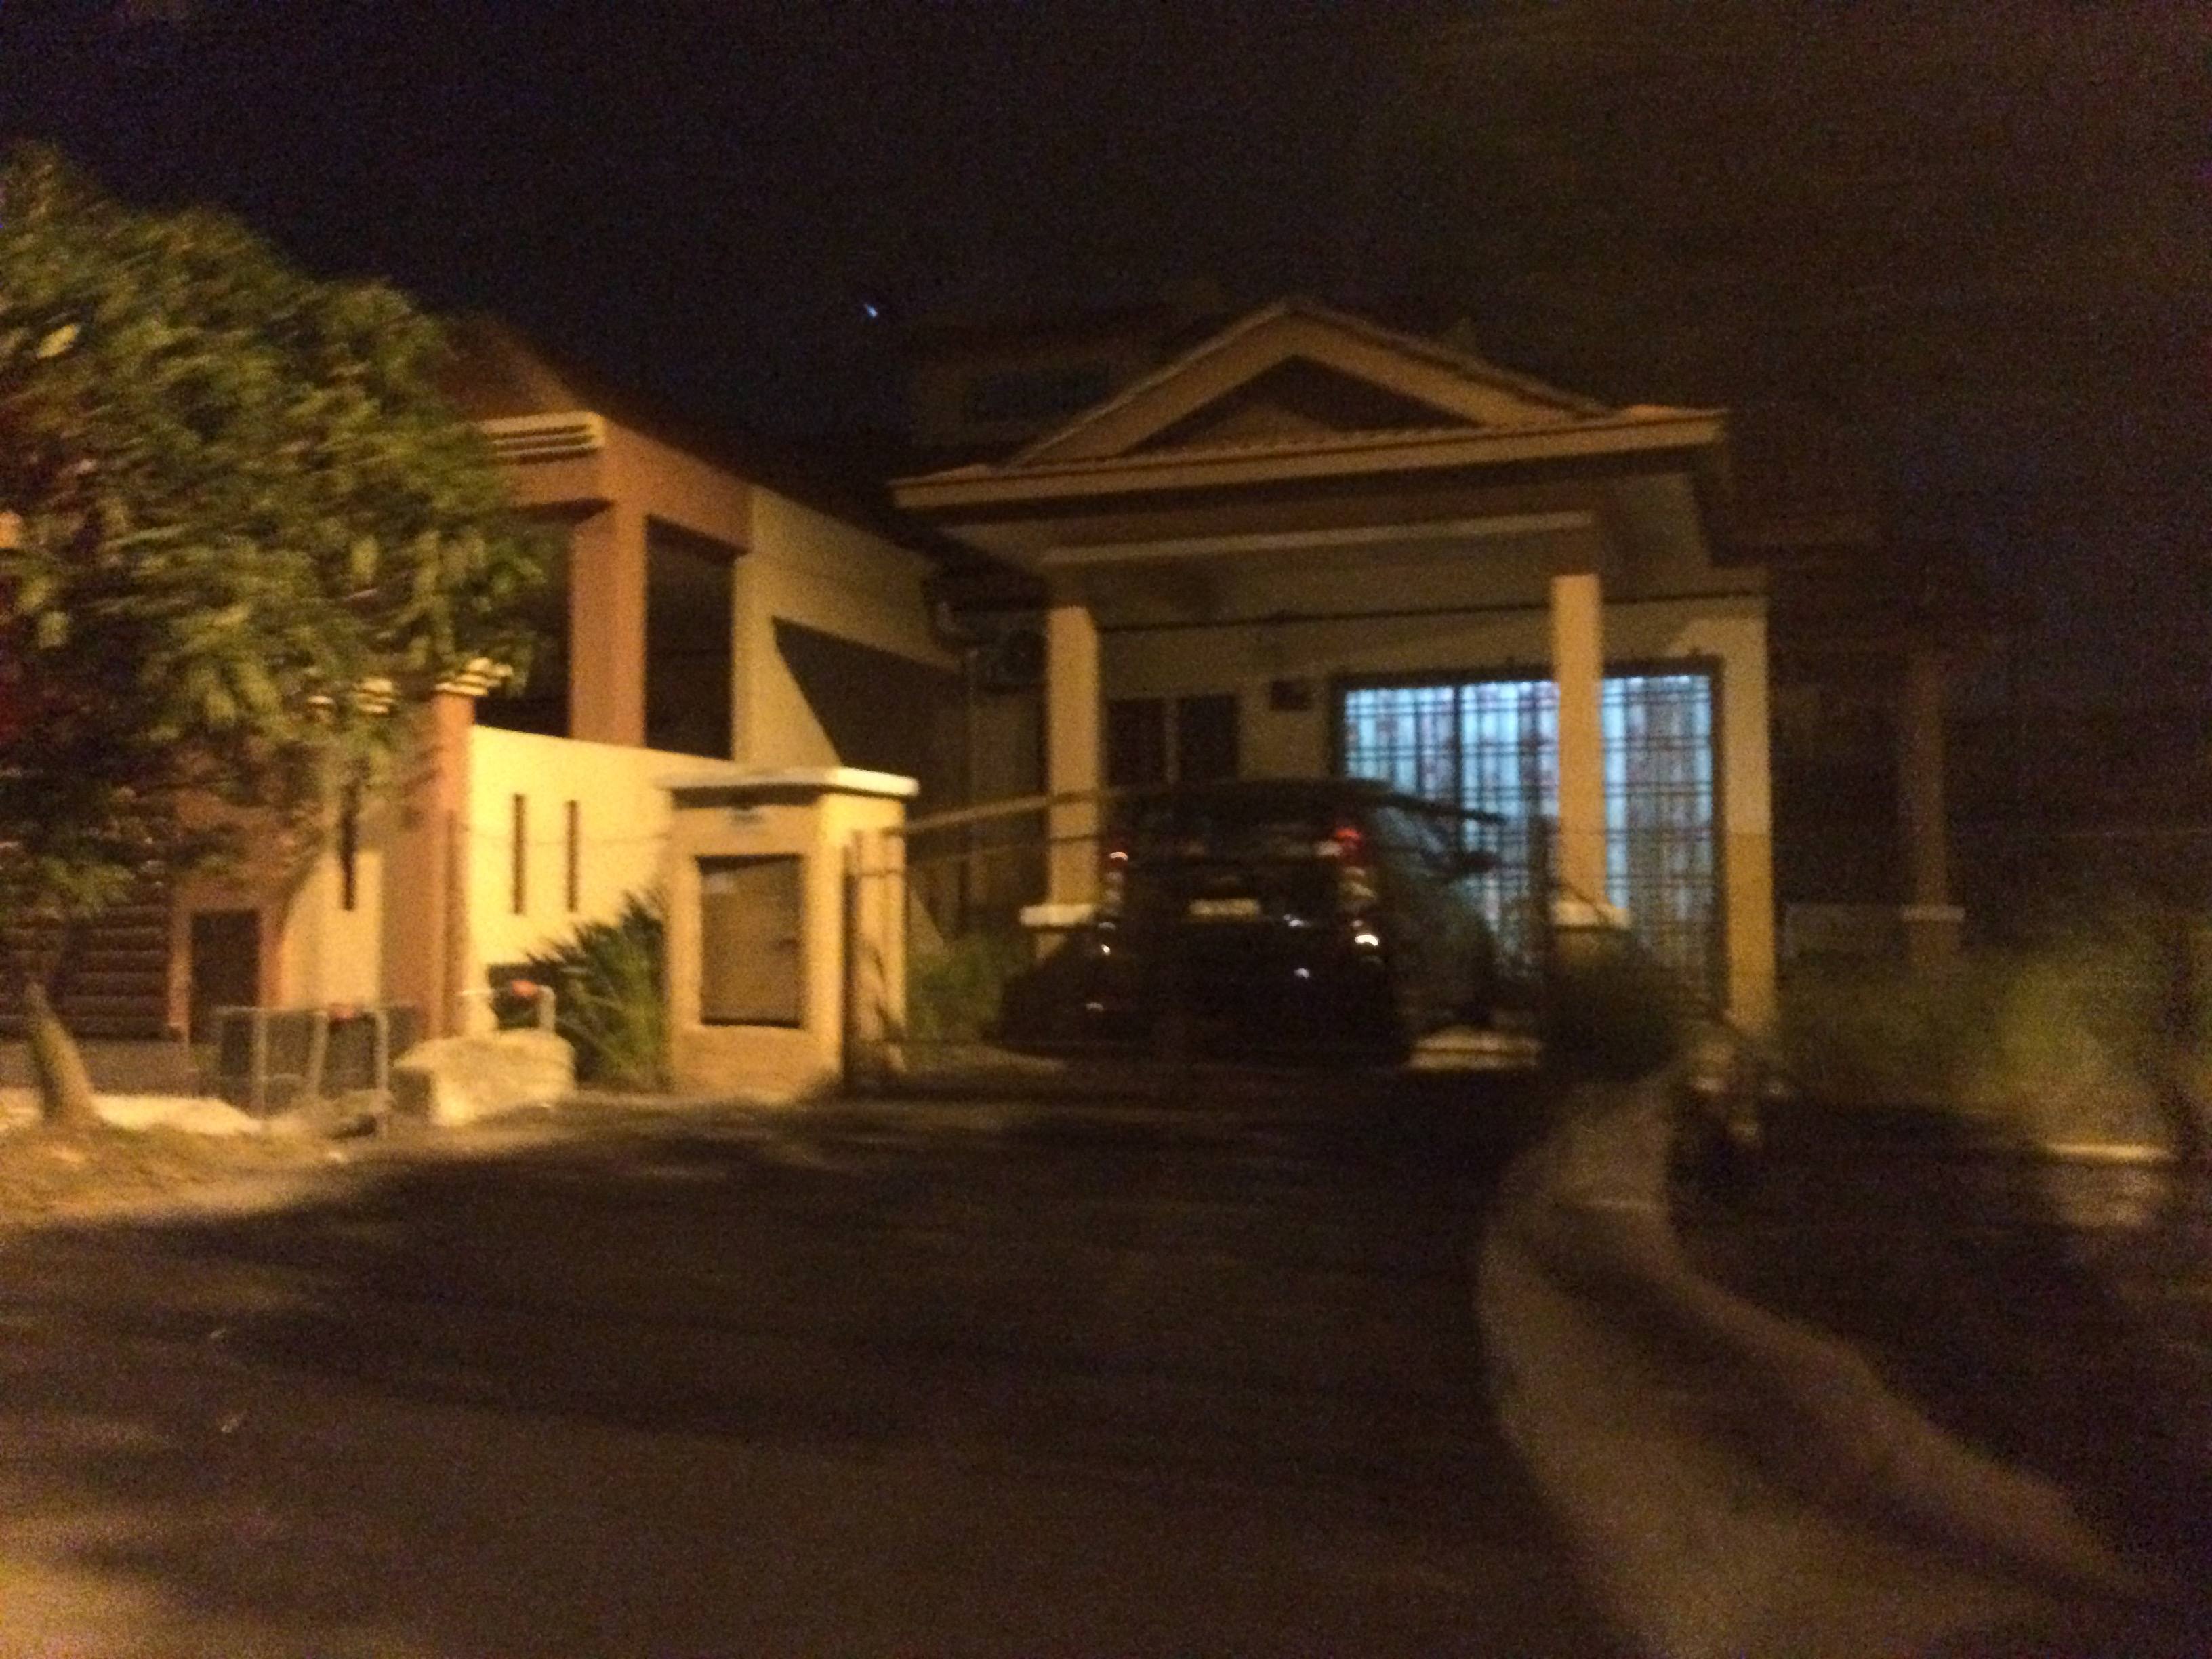car: (1066, 756, 1524, 1080)
